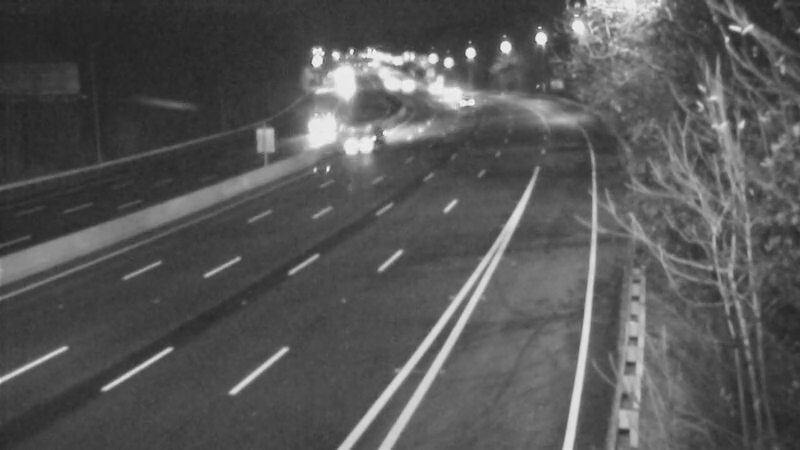vehicle: (380, 60, 430, 110), (401, 63, 451, 113), (422, 66, 472, 116), (435, 82, 485, 132), (338, 110, 388, 160), (289, 101, 339, 151)
